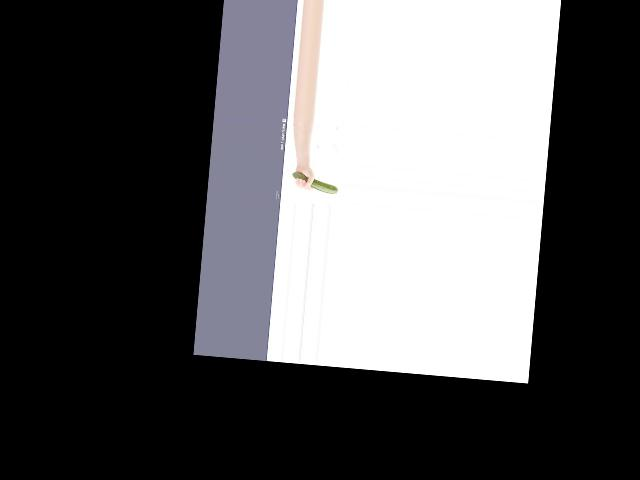cucumber: (291, 172, 338, 194)
